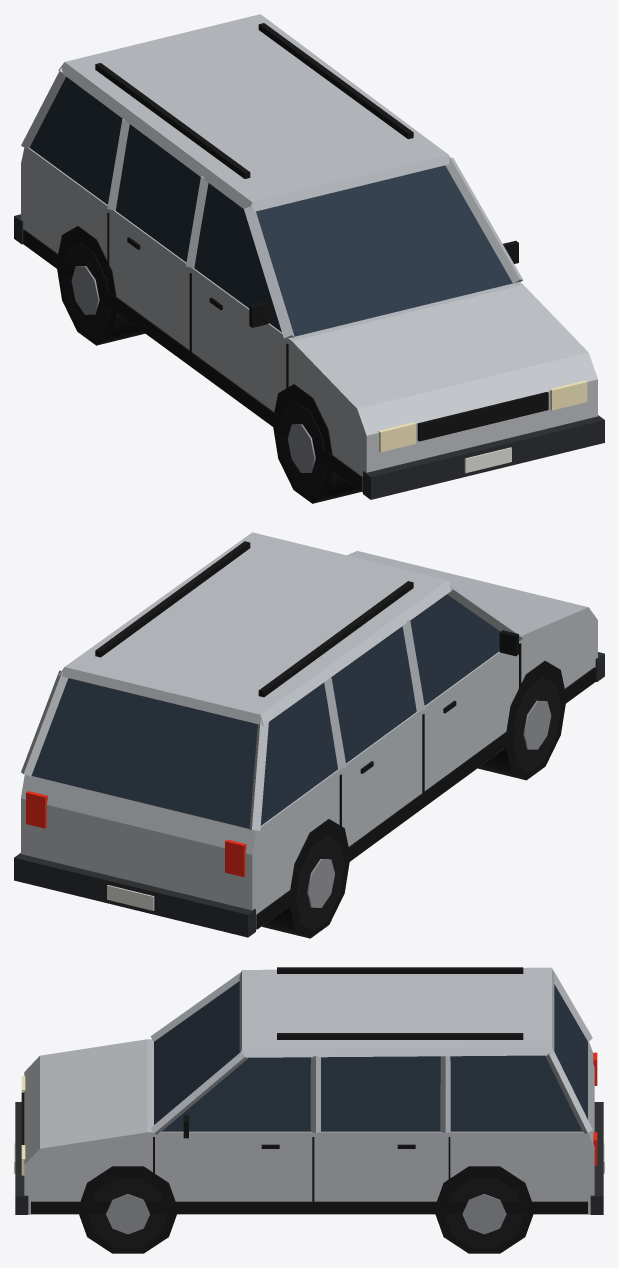
The model's file is mobil_keluarga.glb.
3 renders of one model, top to bottom at view 1: azimuth 30°, elevation 25°; view 2: azimuth 150°, elevation 25°; view 3: azimuth 270°, elevation 25°, orthographic. The views are drawn at different scales.
Parts seen in each view (by area): view 1: body, wheel_fr, wheel_rr; view 2: body, wheel_rr, wheel_fr; view 3: body, wheel_fl, wheel_rl.
Part boxes in pixels (bbox=[...]): body: bbox=[14, 14, 604, 503]; wheel_fr: bbox=[278, 401, 326, 495]; wheel_rr: bbox=[62, 242, 110, 337]; body: bbox=[14, 532, 604, 938]; wheel_rr: bbox=[295, 835, 344, 930]; wheel_fr: bbox=[512, 677, 560, 772]; body: bbox=[14, 967, 604, 1253]; wheel_fl: bbox=[88, 1179, 167, 1248]; wheel_rl: bbox=[444, 1179, 524, 1248].
Size of the model in its own units: 1.96 by 1.75 by 4.56.
Materials: 1 (1 with a texture image).
